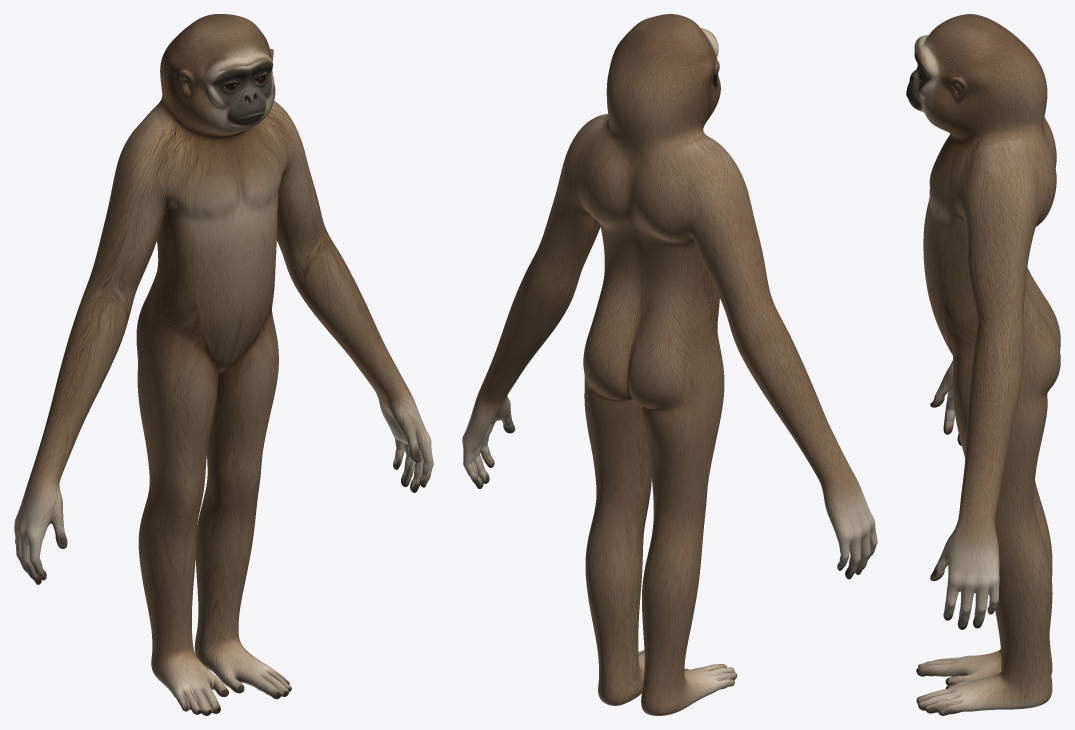
File: Meshy_AI_Beige_Gibbon_Standing_0523055152_texture.fbx
3 renders of one model, left to right at view 1: azimuth 30°, elevation 25°; view 2: azimuth 150°, elevation 25°; view 3: azimuth 270°, elevation 25°, orthographic.
Visible parts, largest first — view 1: Mesh_0; view 2: Mesh_0; view 3: Mesh_0.
Part boxes in pixels (x1,y1,x2,y2): Mesh_0: (14,14,433,715); Mesh_0: (462,14,877,715); Mesh_0: (906,14,1060,715).
Size of the model in its own units: 120 by 190 by 39.57.
1 material, 1 textured.
